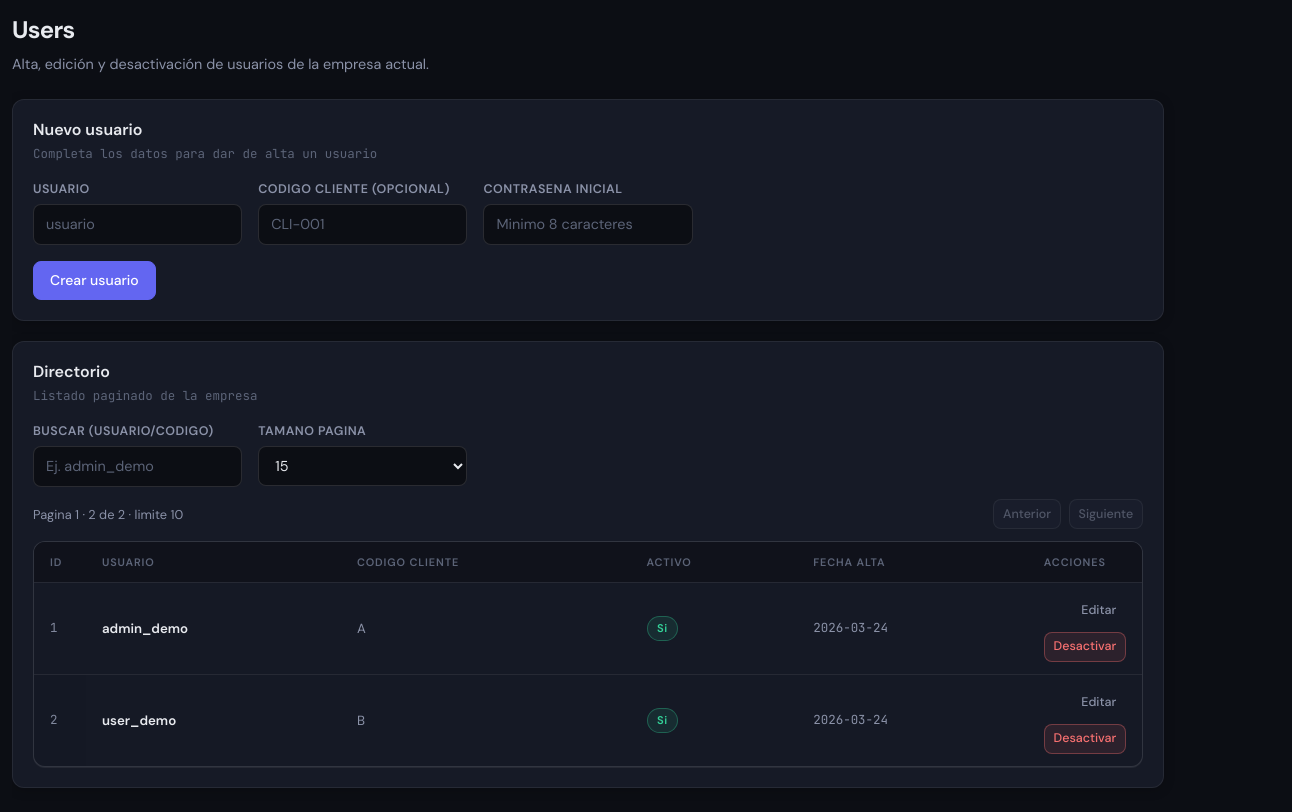
UsersPage data states › permite busqueda local en la pagina actual
expect the text "admin_demo" is shown: met, box [102, 620, 188, 637]
Type "user_demo" into the field with placeholder "Ej. admin_demo" at (138, 467), box [33, 446, 242, 487]
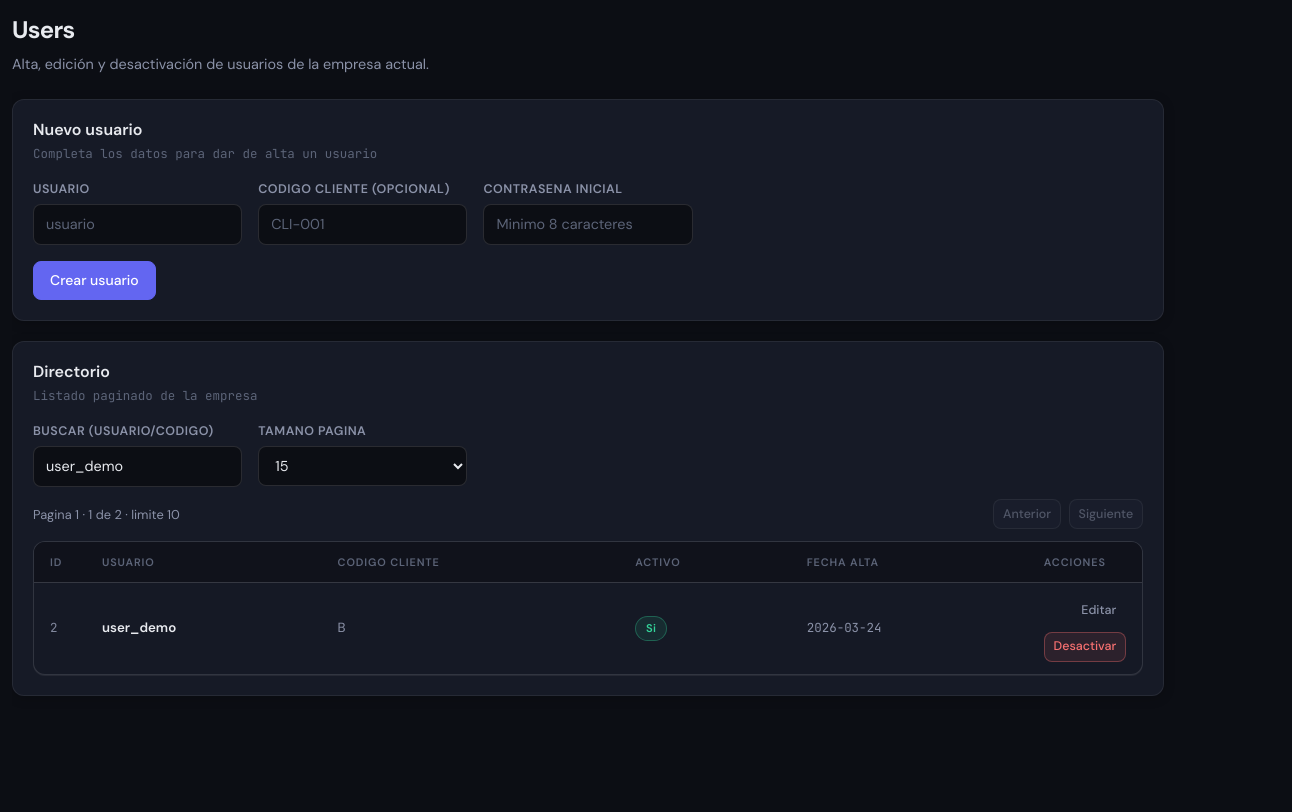
expect the text "user_demo" is shown: met, box [102, 619, 176, 636]
expect the text "admin_demo" is gone: met
